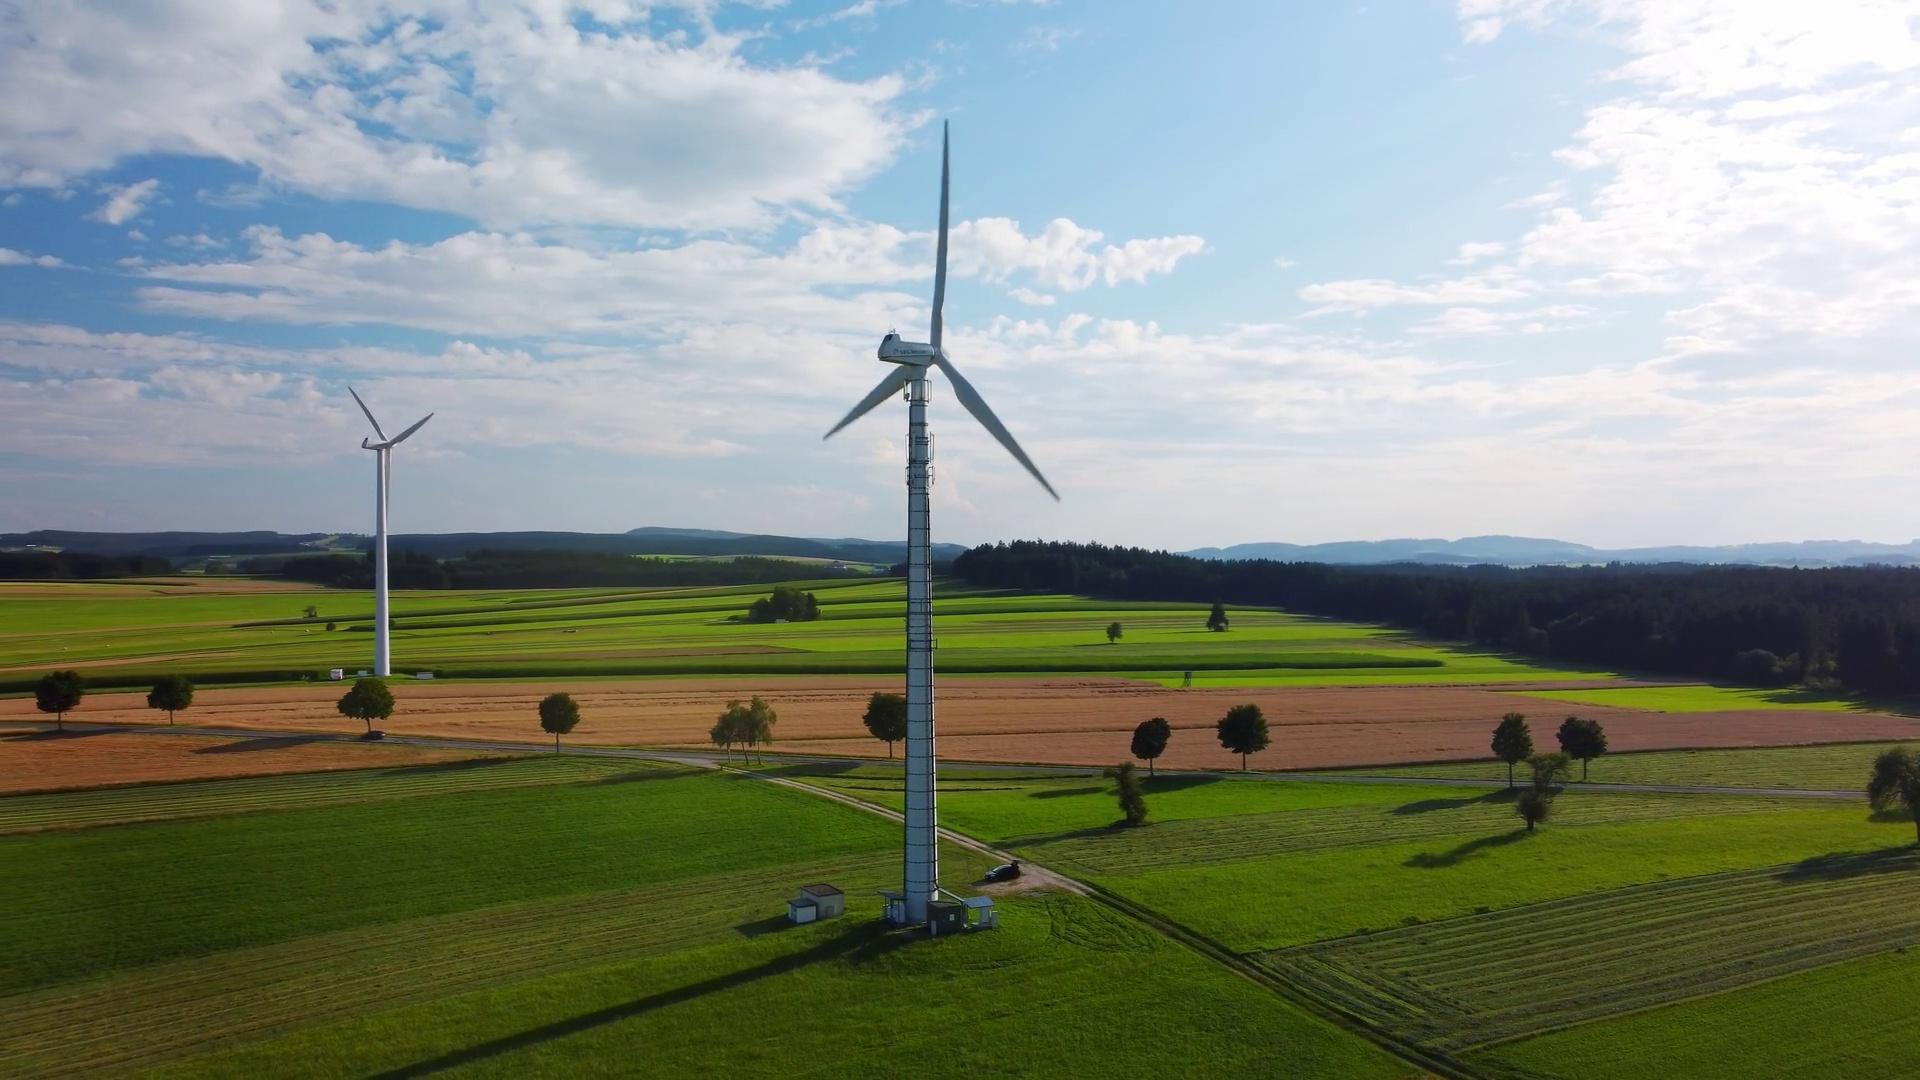turbine: (799, 123, 1106, 957), (327, 349, 464, 688)
